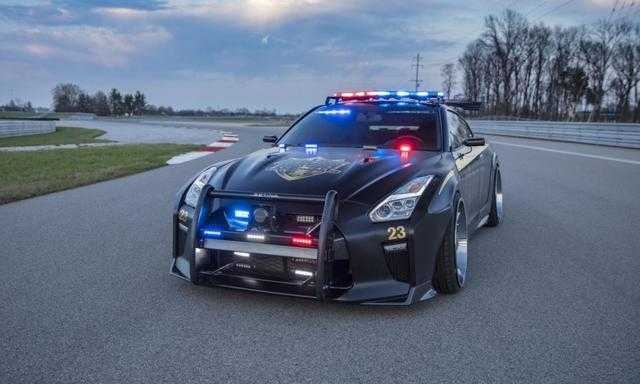Police Car: (161, 68, 513, 328)
